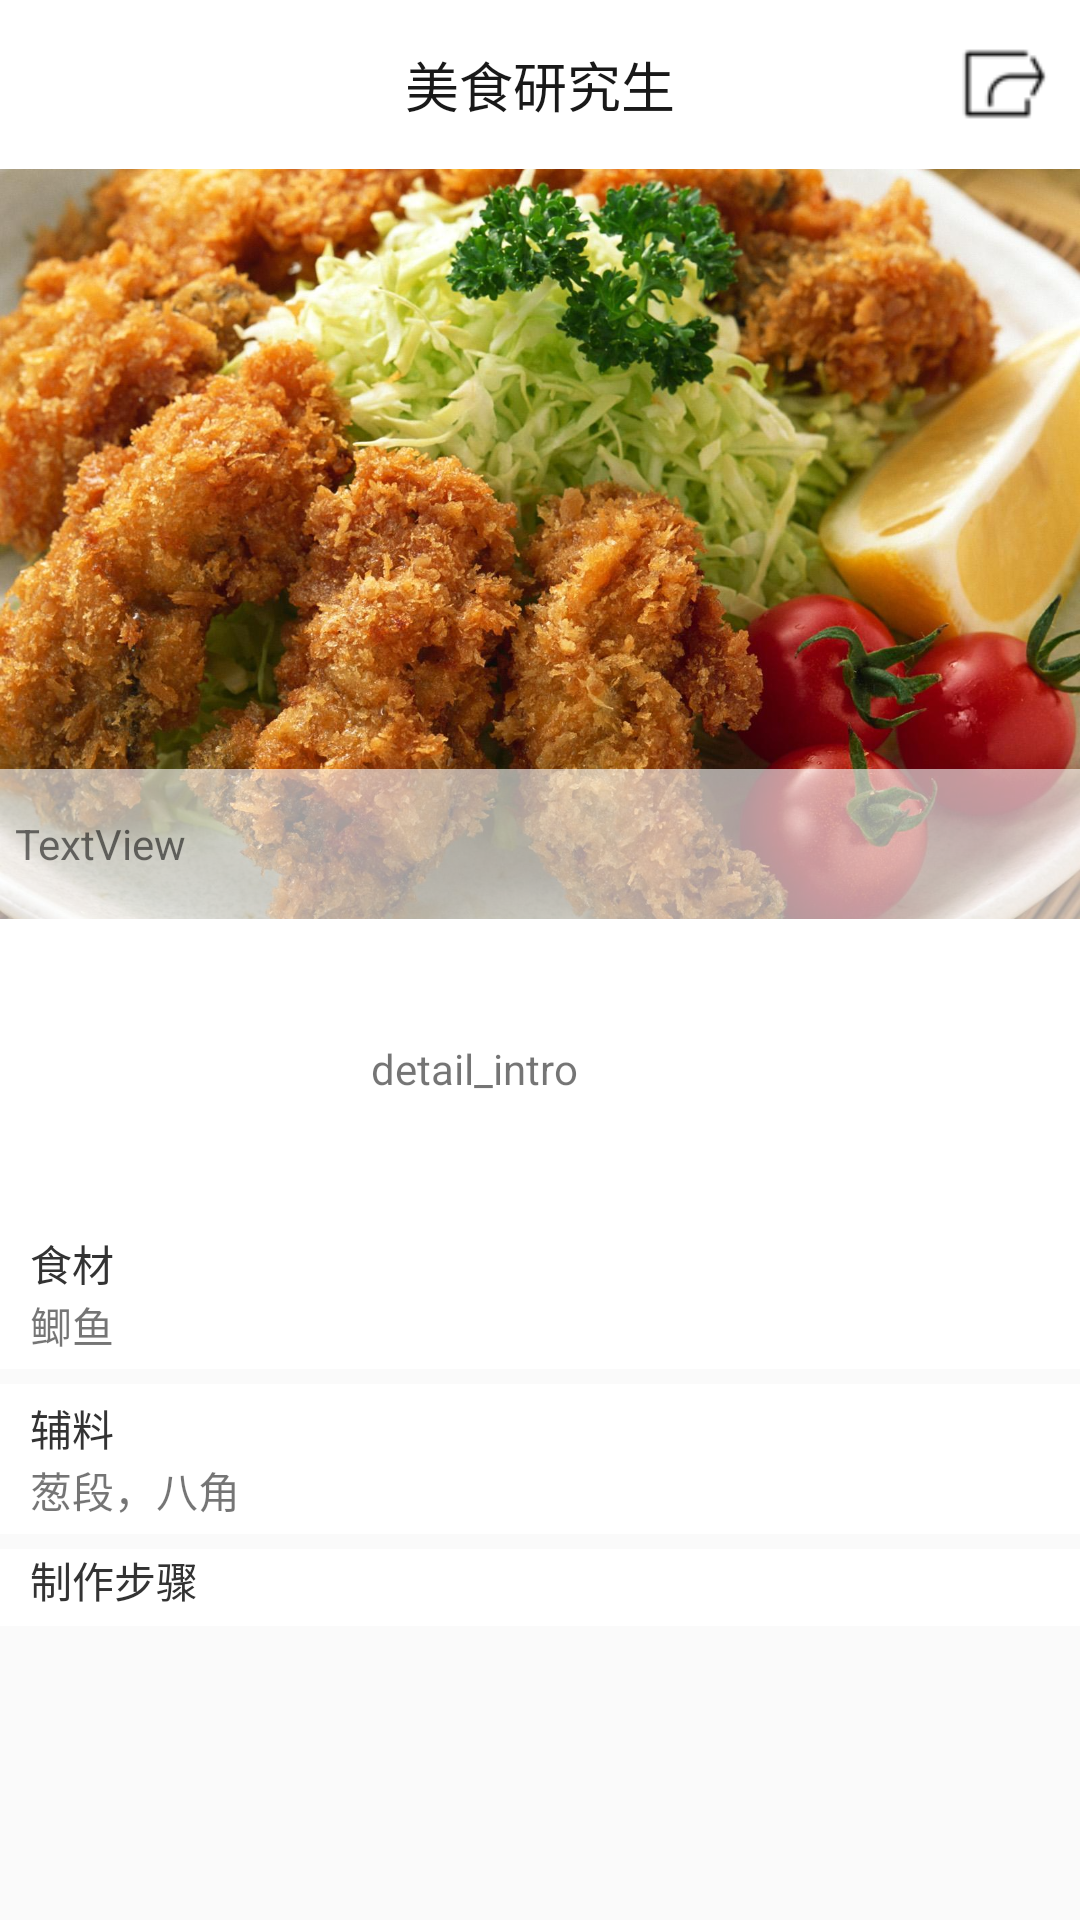

Where icons sit on this 1080 × 1920 app screen, as (x1, y1, x2, y2):
cate share: (964, 49, 1046, 119)
